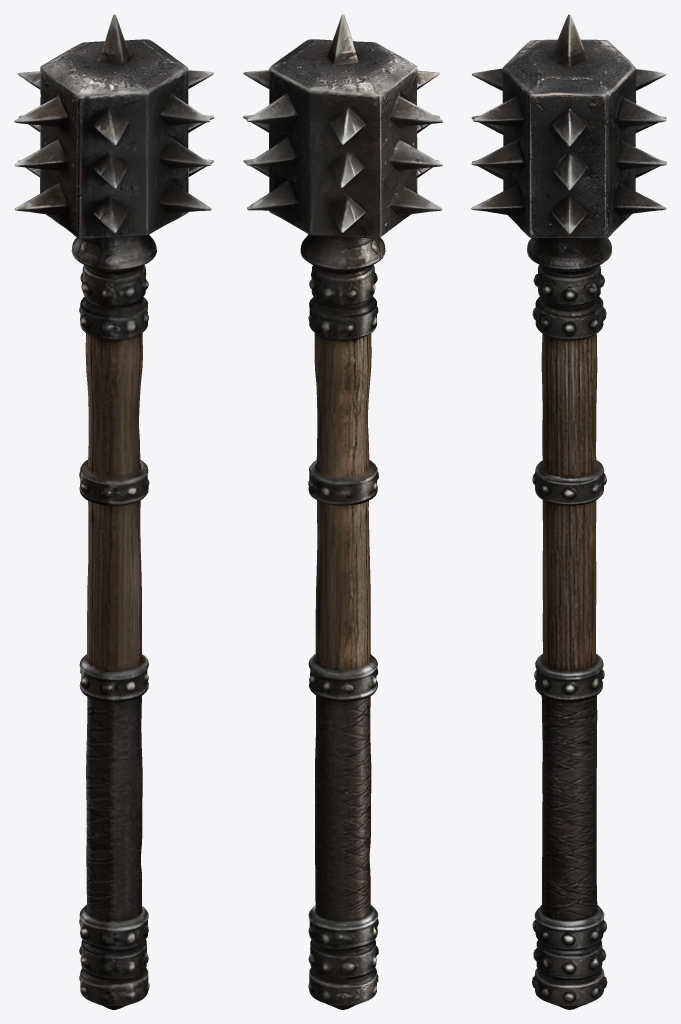
Rendered from great_studded_mace.glb.
The picture shows the model from 3 angles, left to right: view 1: azimuth 30°, elevation 25°; view 2: azimuth 150°, elevation 25°; view 3: azimuth 270°, elevation 25°; orthographic projection.
Parts seen in each view (by area): view 1: great_studded_mace; view 2: great_studded_mace; view 3: great_studded_mace.
Boxes of the visible parts, x1=… form: great_studded_mace: x1=14, y1=14, x2=214, y2=1009; great_studded_mace: x1=243, y1=14, x2=442, y2=1009; great_studded_mace: x1=471, y1=14, x2=666, y2=1009.
Bounding box in the file's own units: 0.2827 × 1.35 × 0.2401.
Materials: 1 (1 with a texture image).
